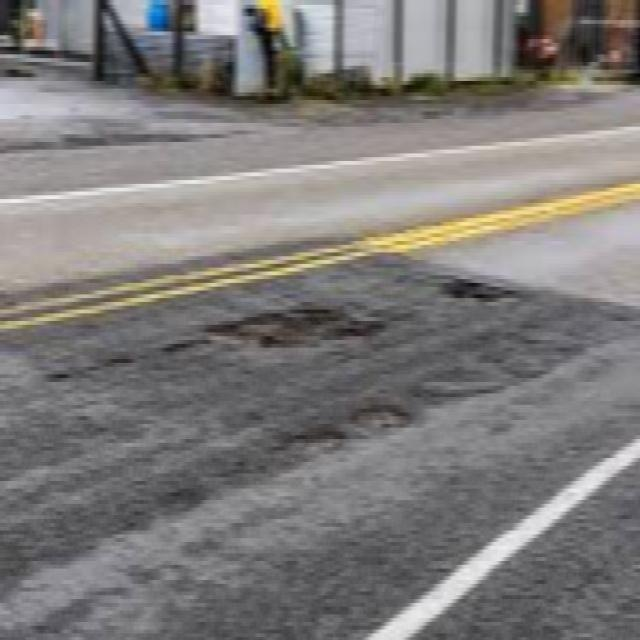Pothole: (214, 283, 388, 356), (407, 331, 564, 407), (417, 270, 502, 306), (352, 402, 431, 439), (274, 424, 365, 452)
